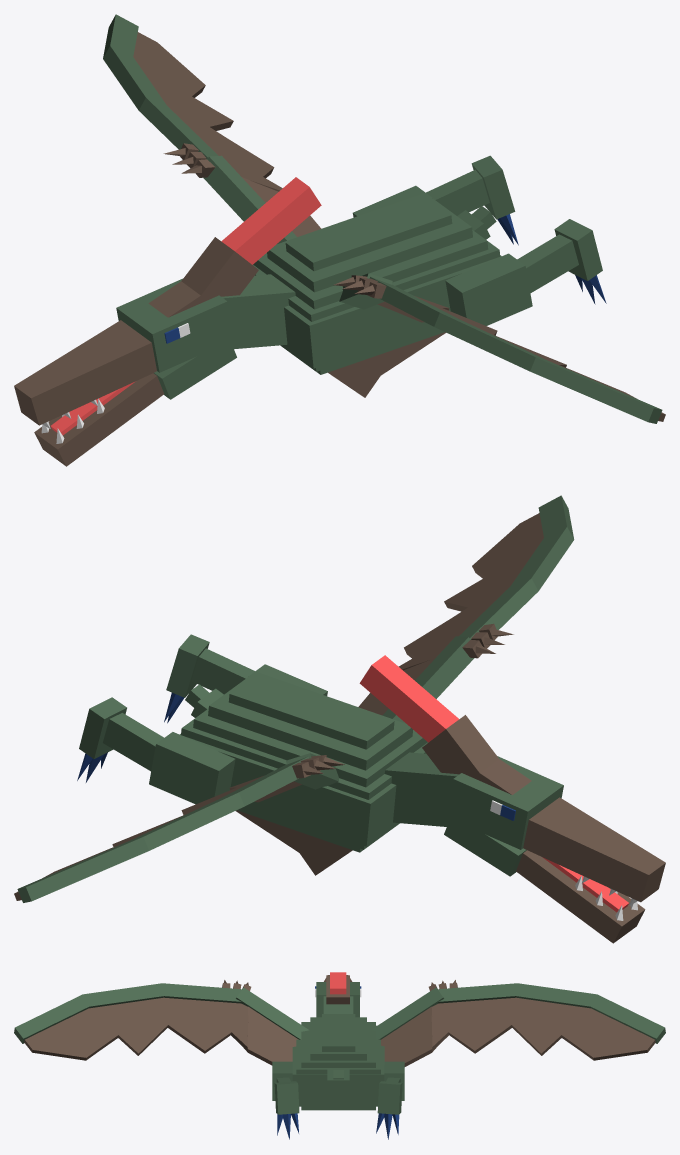
The model's file is lod_pterosaur.obj.
3 views of the same model, one above another, from view 1: azimuth 30°, elevation 25°; view 2: azimuth 150°, elevation 25°; view 3: azimuth 270°, elevation 25° (orthographic). The views are drawn at different scales.
Parts seen in each view (by area): view 1: lod_pterosaur; view 2: lod_pterosaur; view 3: lod_pterosaur.
Part boxes in pixels (left/top/right/bottom): lod_pterosaur: left=14, top=14, right=665, bottom=466; lod_pterosaur: left=14, top=495, right=665, bottom=943; lod_pterosaur: left=14, top=972, right=665, bottom=1139.
Size of the model in its own units: 13.34 by 5.15 by 23.34.
